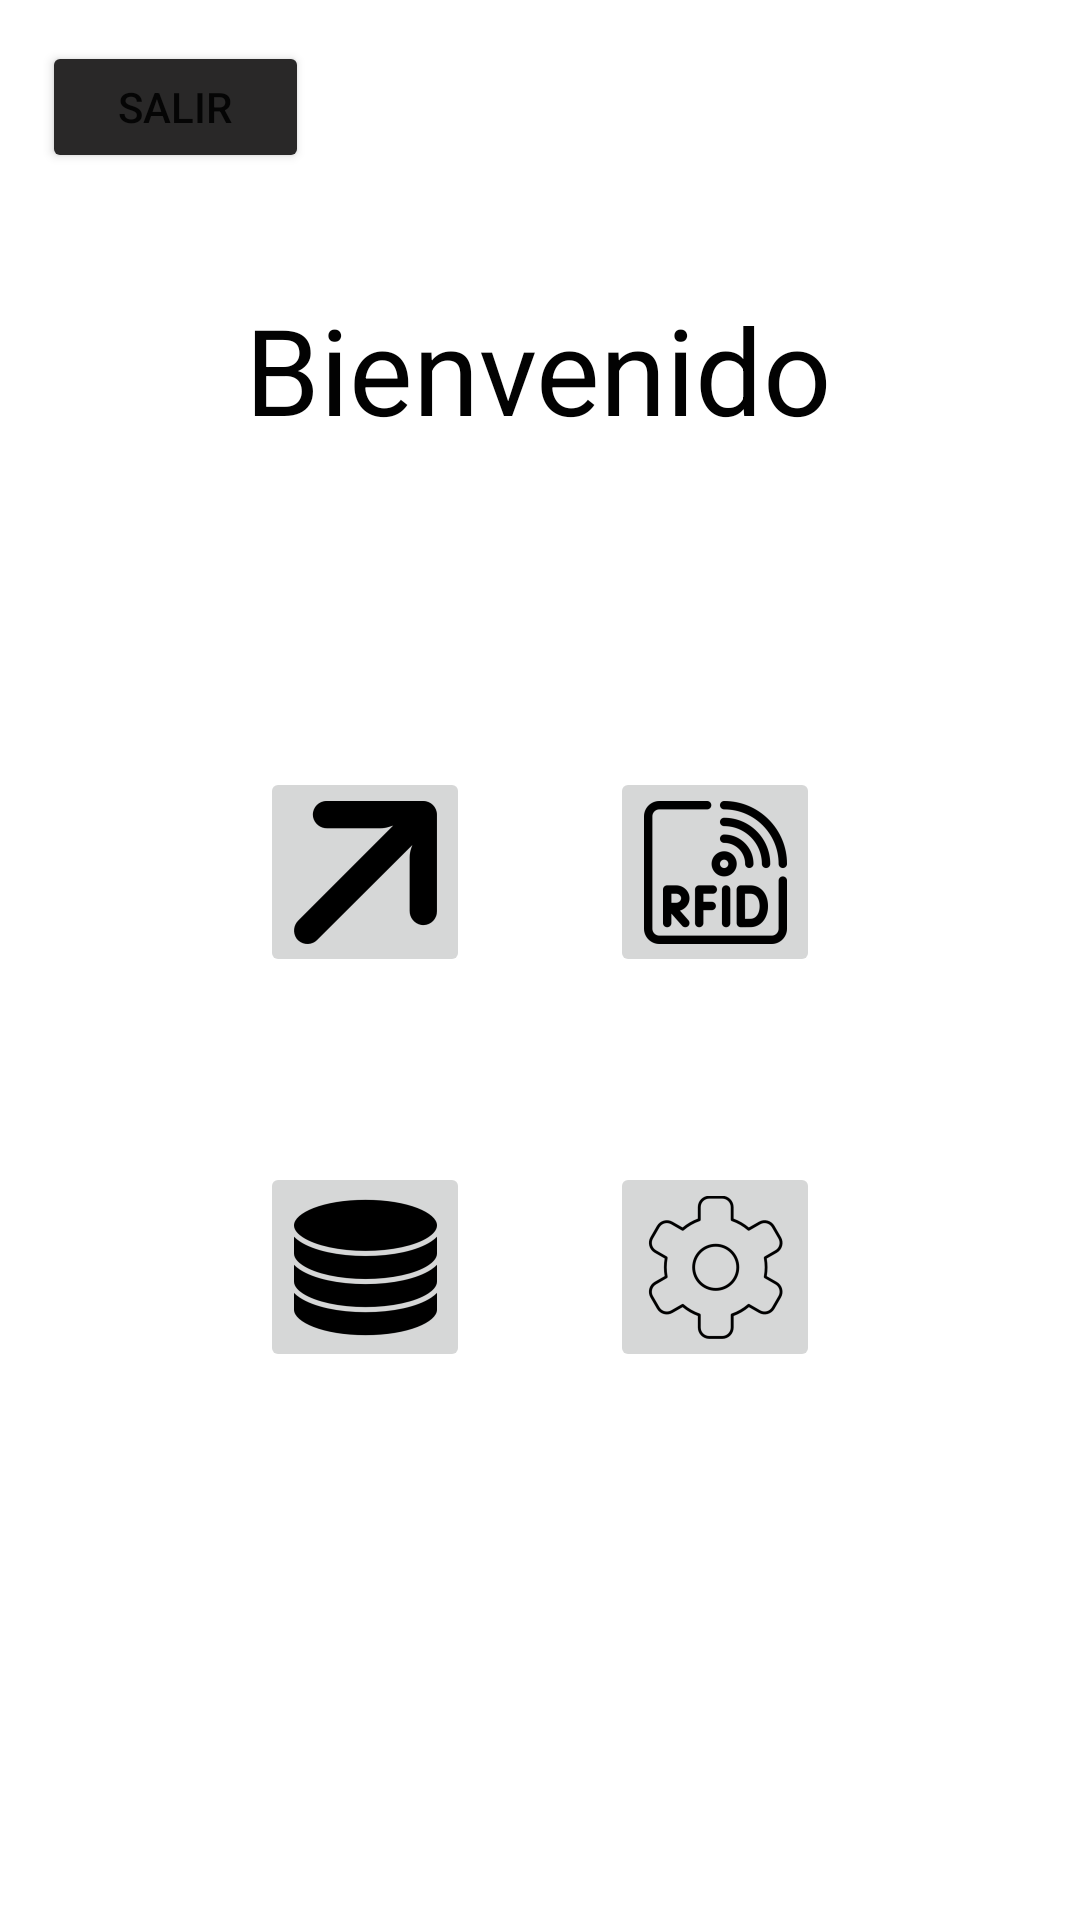

Named icons in this screenshot (1080w x 1920h) and their bounding boxes, [left=x1, top=y1, right=x2, bottom=y2]:
arrow: [left=272, top=785, right=458, bottom=959]
database: [left=272, top=1180, right=458, bottom=1354]
settings: [left=622, top=1180, right=808, bottom=1354]
